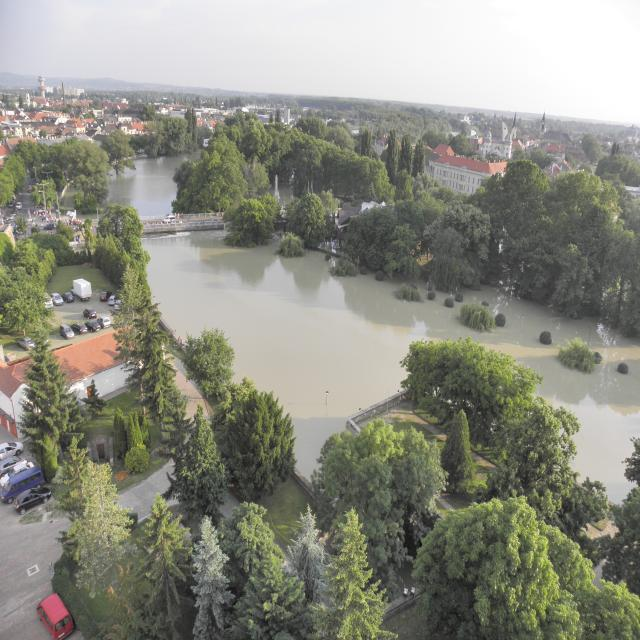flood: (143, 234, 640, 506), (109, 161, 177, 218)
house: (45, 330, 127, 398), (428, 146, 494, 192), (0, 369, 31, 418)
